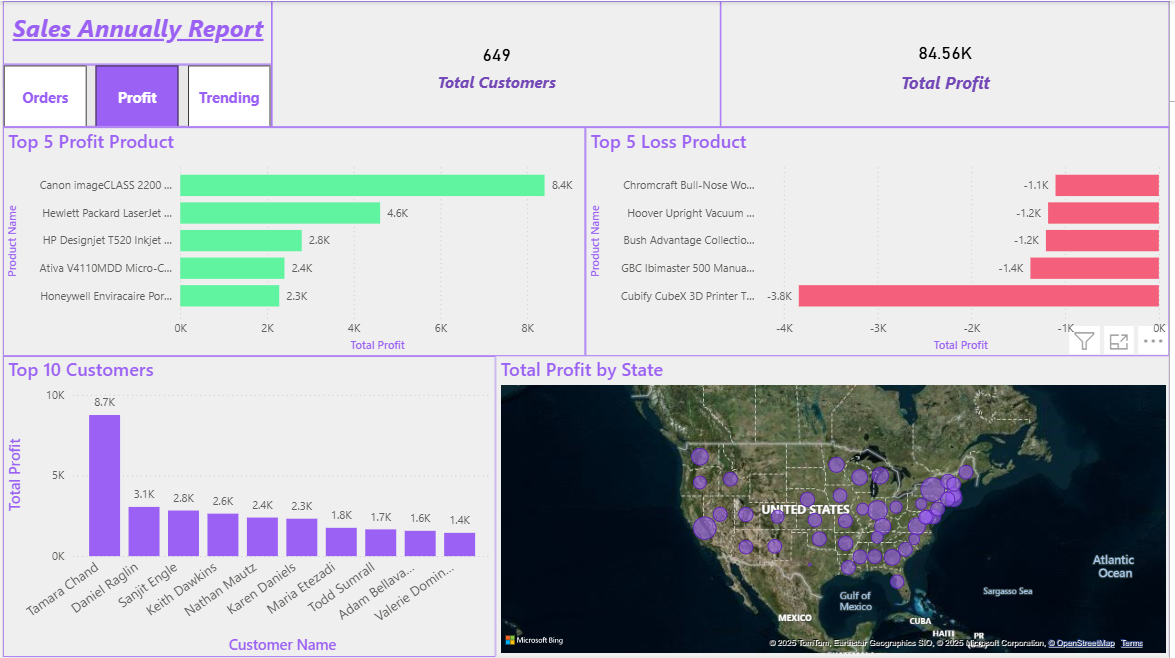

What the dashboard file says about the page in this screenshot:
{"tool":"powerbi","page":{"name":"Profit","canvas":[1280,720],"ordinal":1},"visuals":[{"type":"pageNavigator","box":[0,70,295,68],"z":0},{"type":"textbox","box":[0,0,295,70],"z":1000},{"type":"columnChart","title":"Top 10 Customers","fields":{"Category":["Superstore.Customer Name"],"Y":["#Measurs.Total Profit"]},"box":[0,389.7,540.7,330.7],"z":2000},{"type":"map","fields":{"Category":["Superstore.State"],"Size":["#Measurs.Total Profit"]},"box":[540.7,389.7,739.6,330.7],"z":2001},{"type":"clusteredBarChart","title":"Top 5 Profit Product","fields":{"Y":["#Measurs.Total Profit"],"Category":["Product_Data.Product Name"]},"box":[0,138.6,639.5,251.1],"z":2002},{"type":"clusteredBarChart","title":"Top 5 Loss Product","fields":{"Y":["#Measurs.Total Profit"],"Category":["Product_Data.Product Name"]},"box":[639.5,138.6,640.8,251.1],"z":2003},{"type":"card","fields":{"Values":["#Measurs.Total Profit"]},"box":[787.7,0,492.6,138.6],"z":2004},{"type":"card","fields":{"Values":["Count(Superstore.Customer Name)"]},"box":[295,0,492.6,138.6],"z":2006}]}

Visuals, with their boxes in screenshot pixels (x1, y1, x2, y2), scaled from the page's 1280x720 canvas onto the 1175x658 screenshot:
pageNavigator: [left=0, top=64, right=271, bottom=126]
textbox: [left=0, top=0, right=271, bottom=64]
"Top 10 Customers" columnChart: [left=0, top=356, right=496, bottom=657]
map - Superstore.State x #Measurs.Total Profit: [left=496, top=356, right=1174, bottom=657]
"Top 5 Profit Product" clusteredBarChart: [left=0, top=127, right=587, bottom=356]
"Top 5 Loss Product" clusteredBarChart: [left=587, top=127, right=1174, bottom=356]
card - #Measurs.Total Profit: [left=723, top=0, right=1174, bottom=127]
card - Count(Superstore.Customer Name): [left=271, top=0, right=723, bottom=127]
